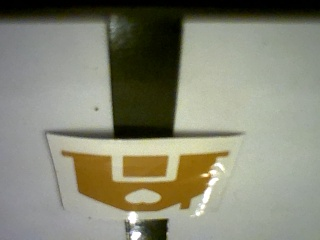Rescue_Station: (61, 149, 230, 213)
